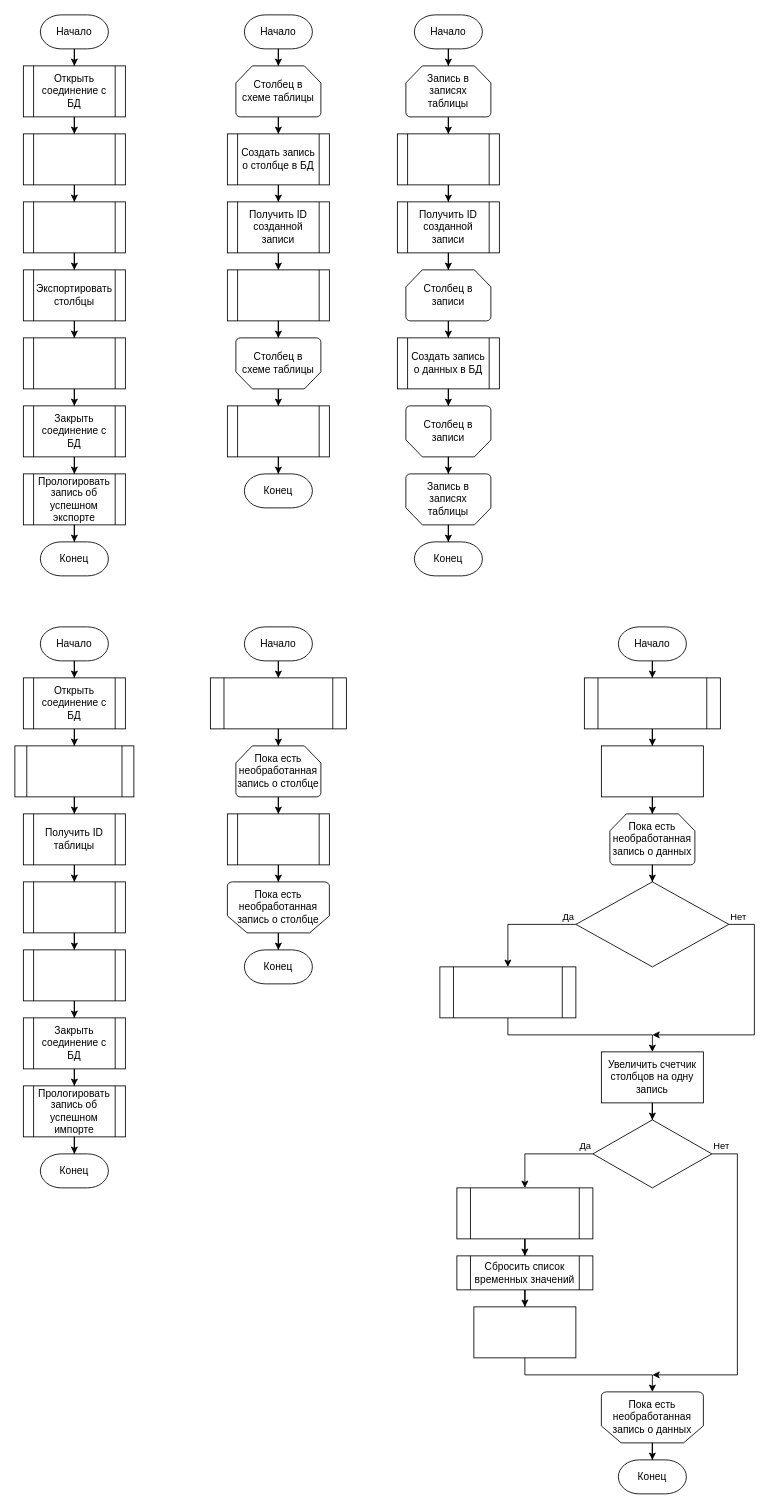
This 776x1509 diagram has some shape labels left out. Here are the shapes that lost their labels. From the top down, the centre of each, then its label:
At (74,159): "Создать запись о таблице в БД".
At (448,159): "Создать запись о записи в БД".
At (74,227): "Получить ID созданной таблицы".
At (278,295): "Сохранить ID созданного столбца по его названию".
At (74,363): "Экспортировать данные".
At (278,431): "Вернуть список созданных колонн и их ID".
At (278,703): "Получить записи о столбцах связанных с таблицей по ID из БД".
At (652,703): "Получить записи о данных связанных с таблицей по ID из БД".
At (74,771): "Получить записи о таблице по ее названию из БД".
At (652,771): "Создать счетчик столбцов на одну запись".
At (278,839): "Заполнить схему таблицы данными о столбце".
At (74,907): "Импортировать столбцы".
At (652,924): "Список обработанных значений не содержит данных о столбце".
At (74,975): "Импортировать данные".
At (507,992): "Добавить данные о столбце во временный список значений".
At (652,1153): "Добавлены все столбцы на одну запись".
At (524,1213): "Добавить запись о данных в список записей таблицы".
At (524,1332): "Сбросить счетчик столбцов на одну запись".
